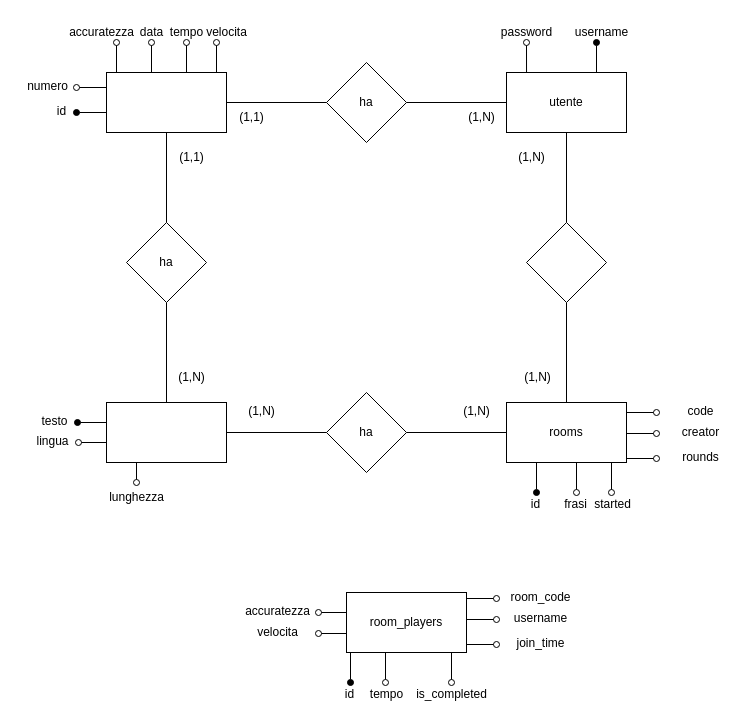
Image size: 747x726. Some labels were removed from this diagram. The centre of each missing label's shape, as x and y in pixels:
"accede" goes at (566,262).
"frase" goes at (166,432).
"turno_storico" goes at (166,102).
